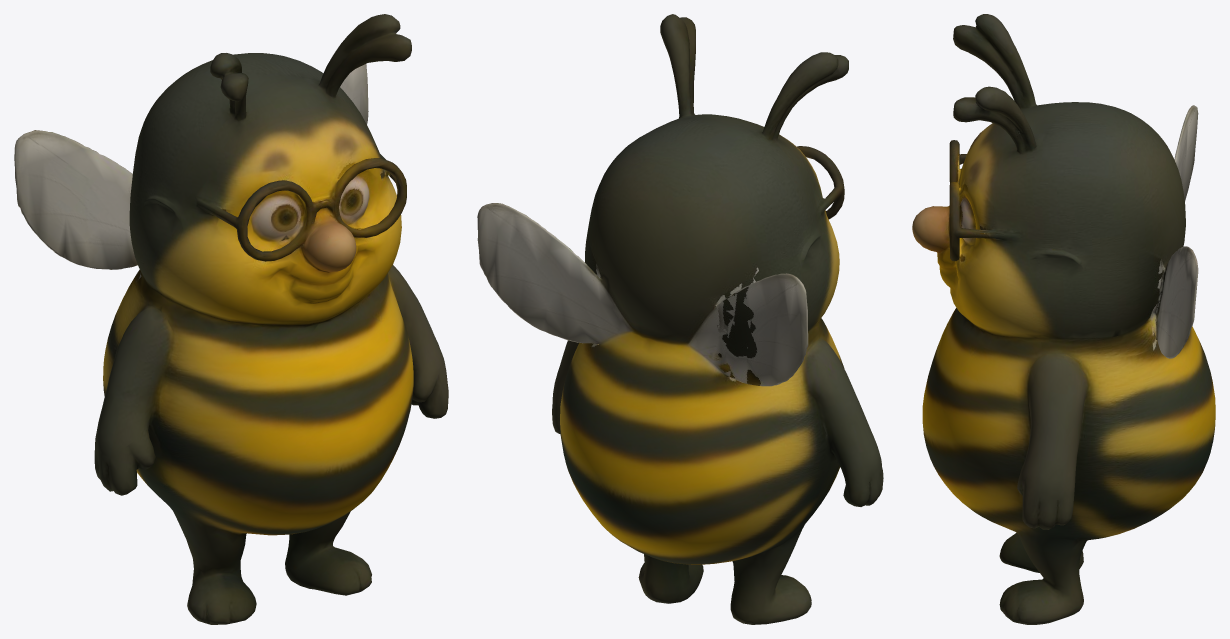
The model's file is fuzzby.glb.
3 renders of one model, left to right at view 1: azimuth 30°, elevation 25°; view 2: azimuth 150°, elevation 25°; view 3: azimuth 270°, elevation 25°, orthographic. The views are drawn at different scales.
Visible parts, largest first — view 1: Fuzzby_Companion; view 2: Fuzzby_Companion; view 3: Fuzzby_Companion.
Part boxes in pixels (box(x1,y1,x2,y2)): Fuzzby_Companion: box(14, 14, 448, 624); Fuzzby_Companion: box(477, 14, 883, 624); Fuzzby_Companion: box(912, 14, 1215, 624).
Bounding box in the file's own units: 0.2286 × 0.36 × 0.1848.
Materials: 1 (1 with a texture image).
